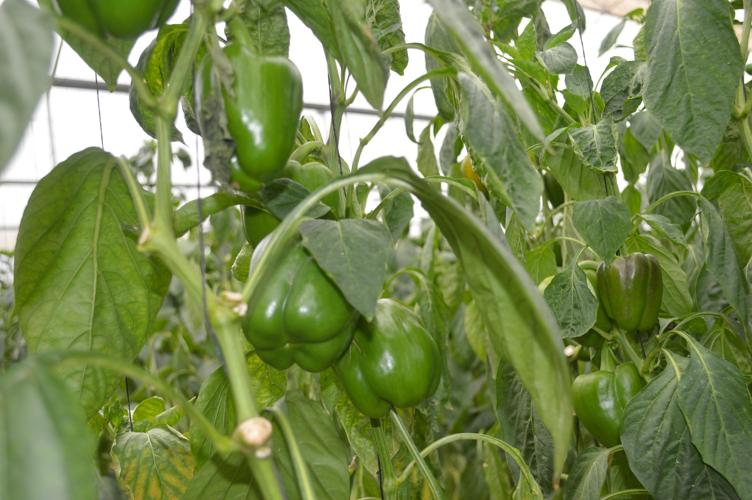BellPepper: (231, 216, 365, 372), (199, 36, 318, 200), (335, 299, 441, 421), (569, 358, 665, 469), (583, 245, 677, 341)
